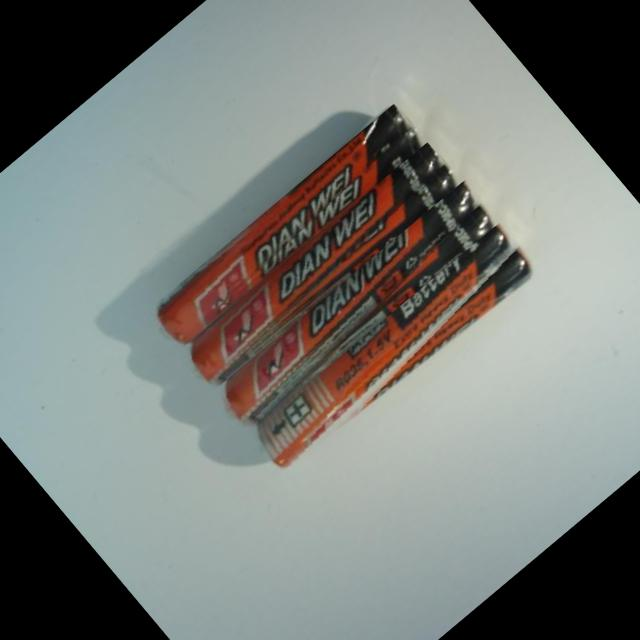Hazard: (246, 220, 541, 482), (209, 178, 503, 438), (174, 140, 460, 392), (145, 102, 424, 347)
